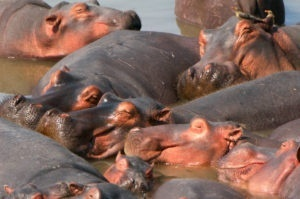hipopotamo: (163, 5, 300, 106), (4, 45, 156, 130), (1, 1, 146, 60), (122, 113, 250, 173), (46, 91, 147, 161), (218, 132, 300, 199), (99, 149, 159, 194)
